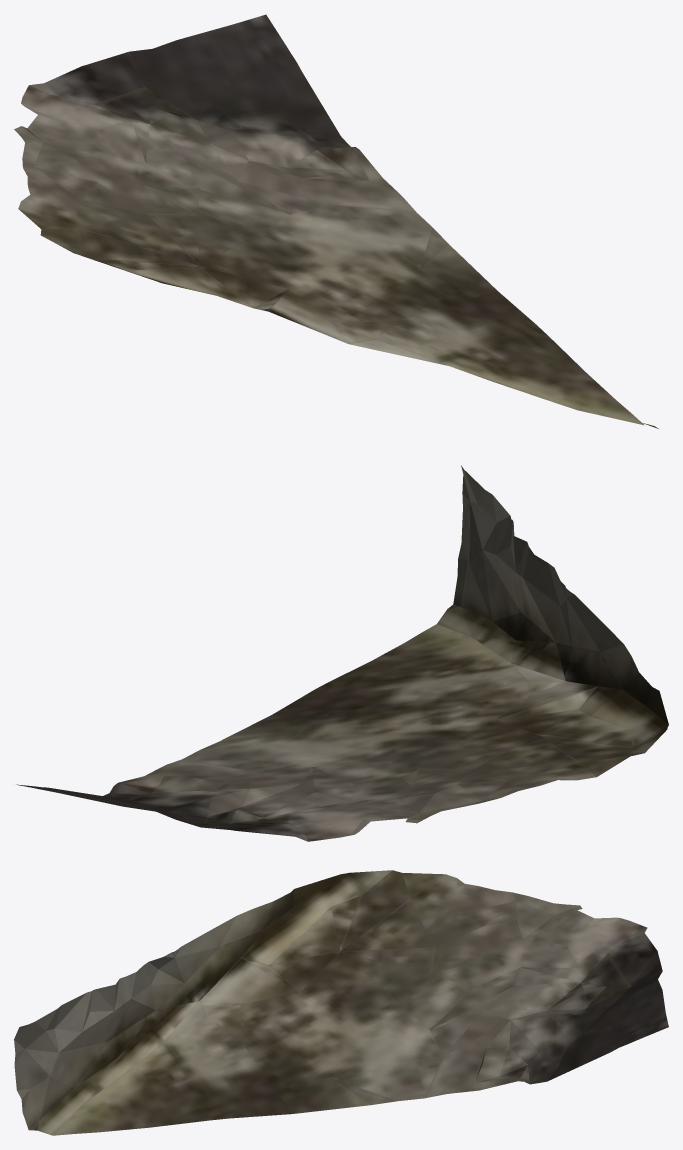
The picture shows the model from 3 angles, top to bottom: view 1: azimuth 30°, elevation 25°; view 2: azimuth 150°, elevation 25°; view 3: azimuth 270°, elevation 25°; orthographic projection. The views are drawn at different scales.
Bounding box in the file's own units: 0.4662 × 0.1506 × 0.8223.
Materials: 1 (1 with a texture image).
